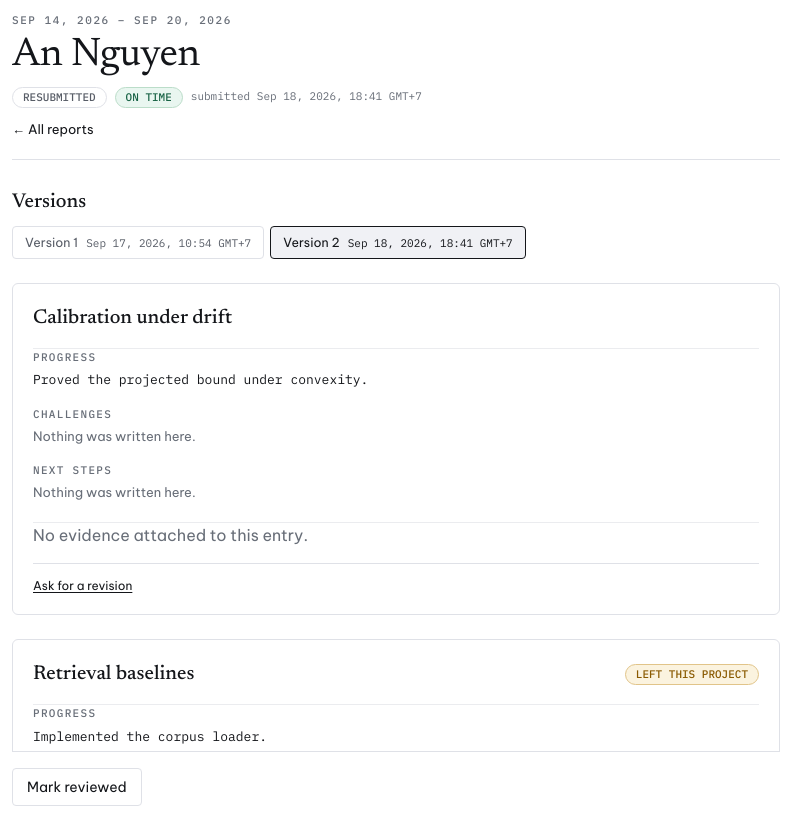
Test: marking the week reviewed is offered to a professor and moves the state
The width and height of the screenshot is (797, 822).
Step 1. Click the button with test id "mark-reviewed" → [77, 787], box [12,768,142,806]
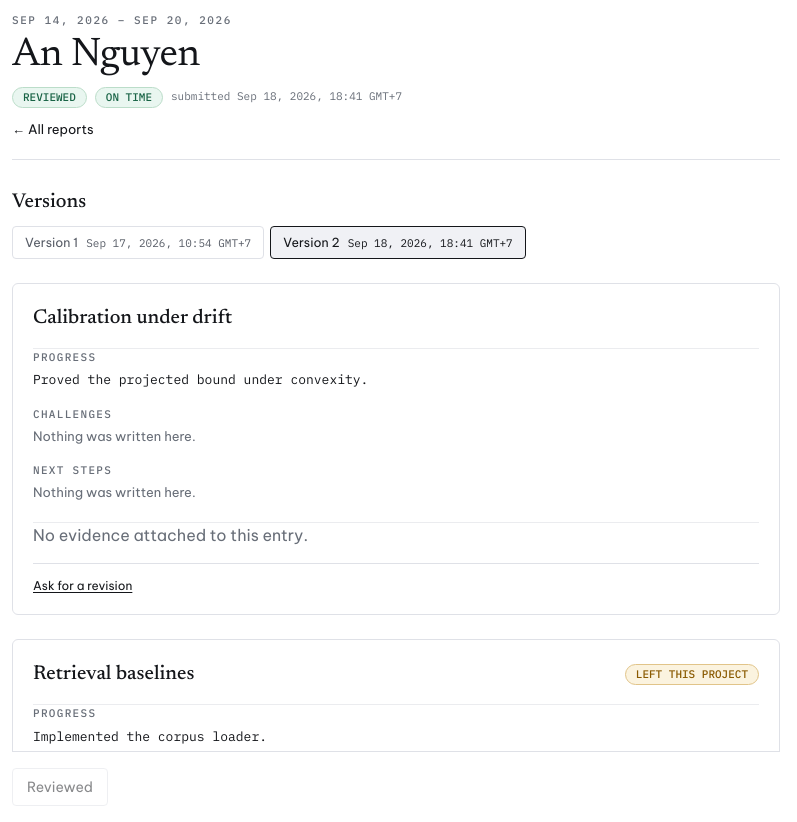
Check: the button with test id "mark-reviewed" is disabled, box [12,768,108,806]
